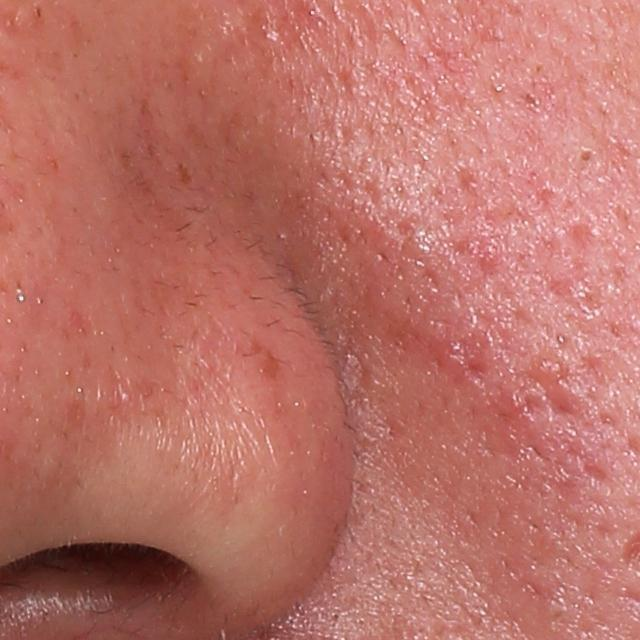atrophic_scar: (515, 362, 580, 424), (442, 302, 489, 387), (479, 193, 539, 234), (563, 217, 596, 250), (580, 456, 609, 488)
comedo: (575, 145, 593, 169)
